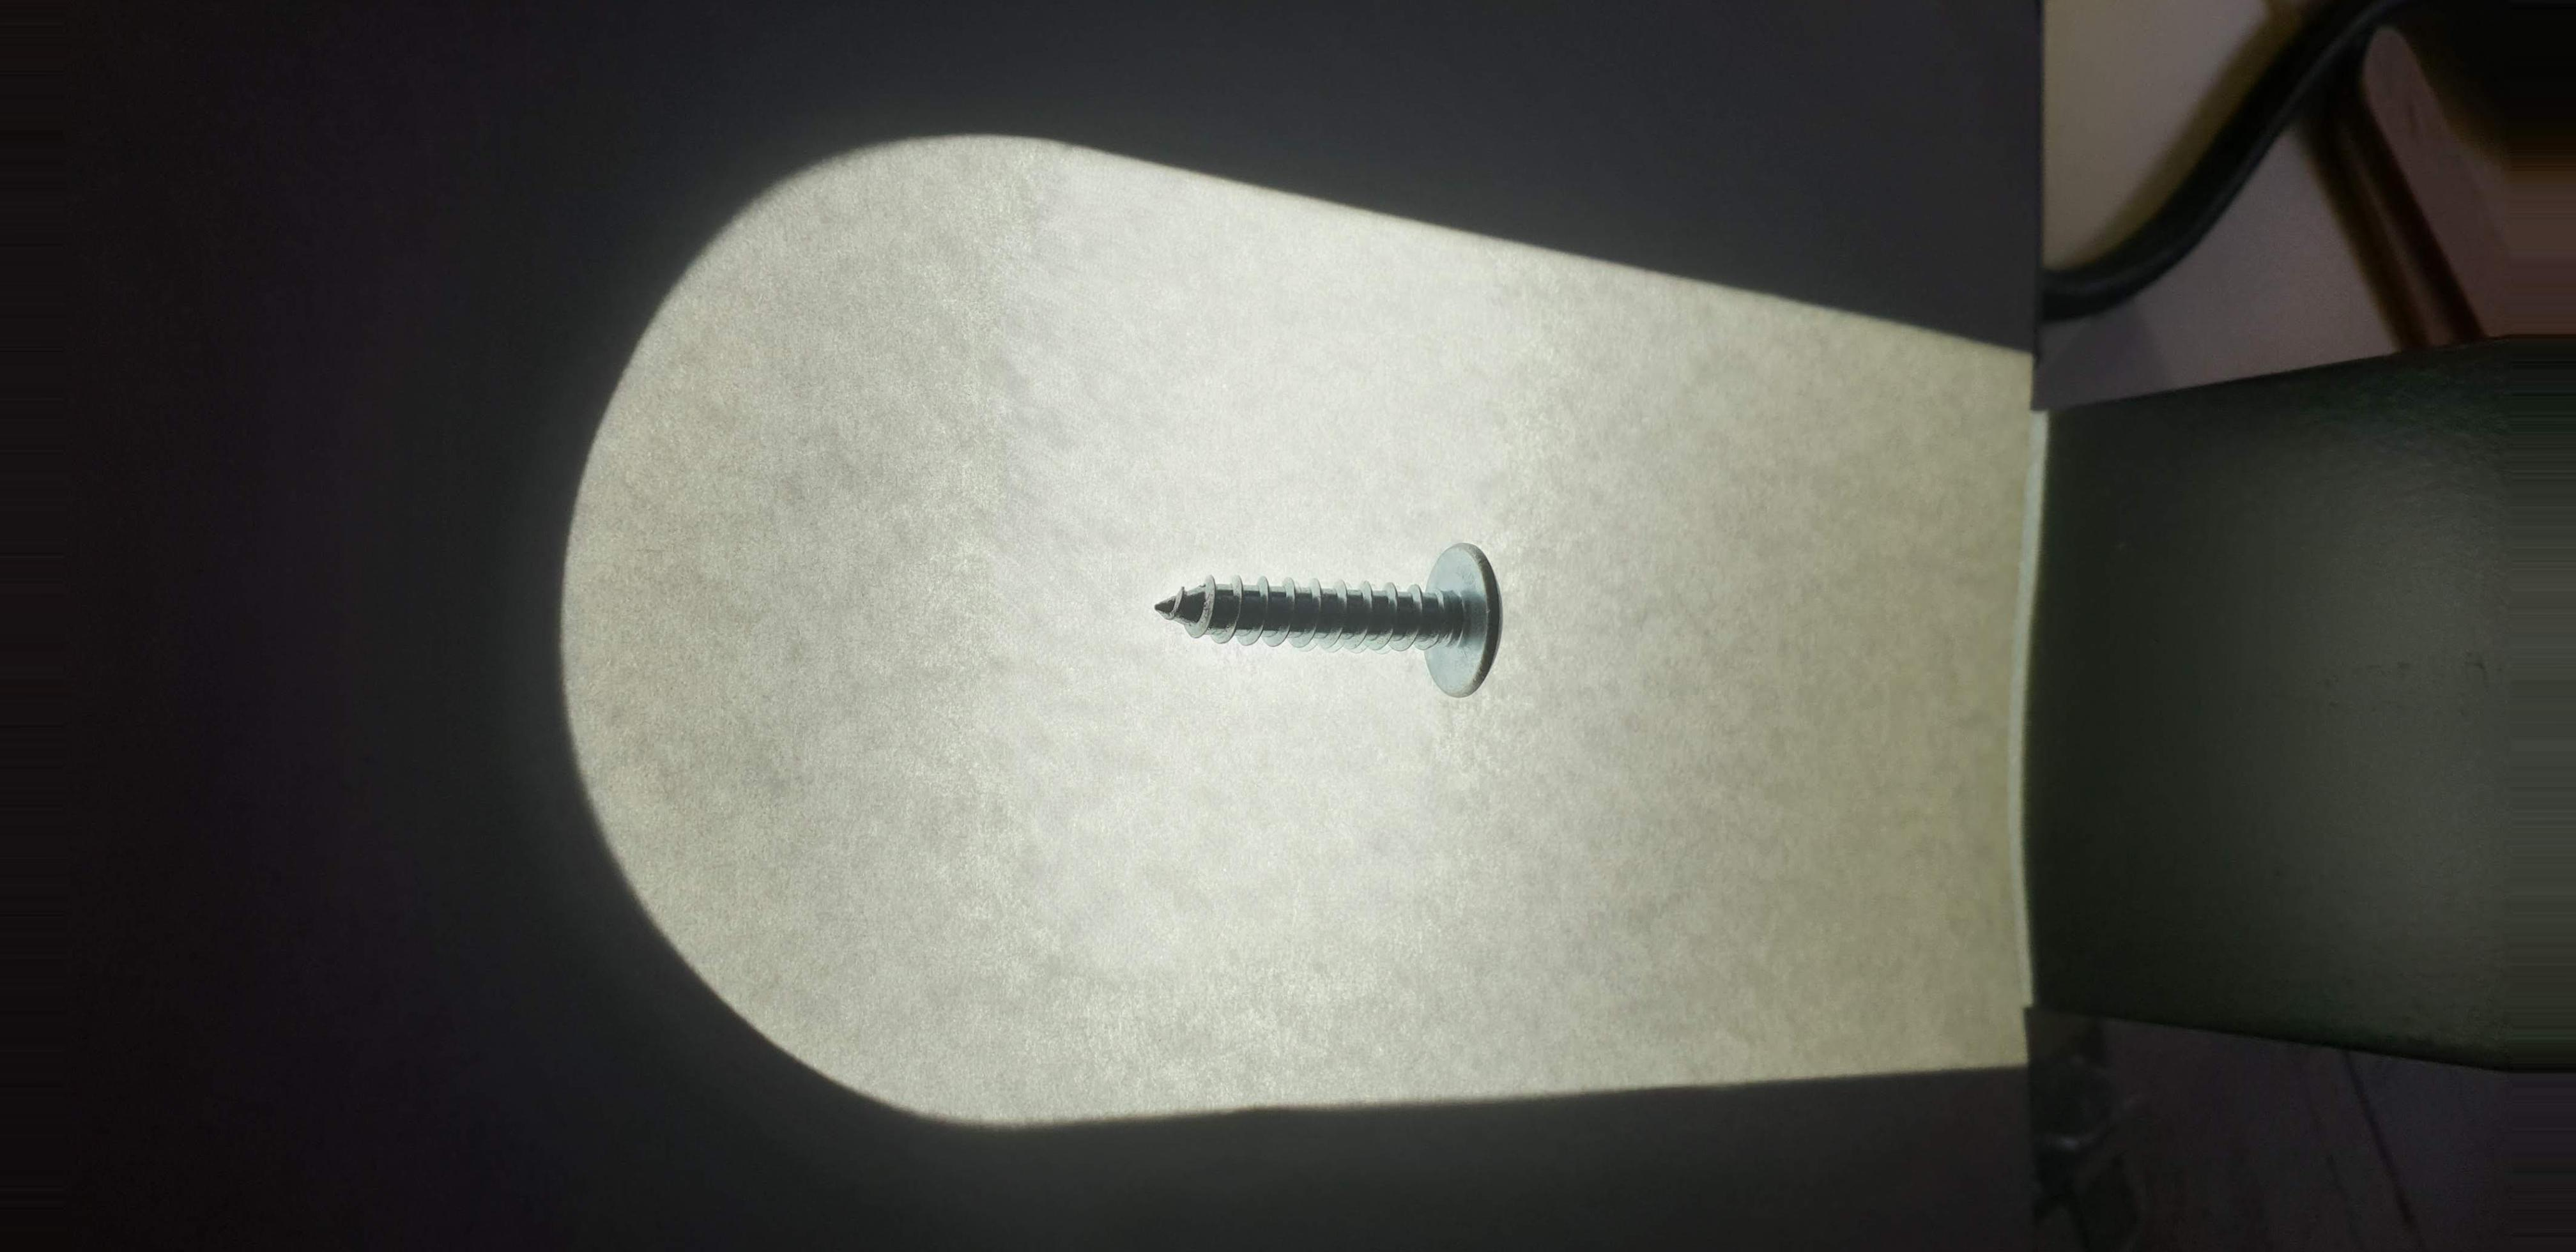S002: (1120, 499, 1584, 746)
